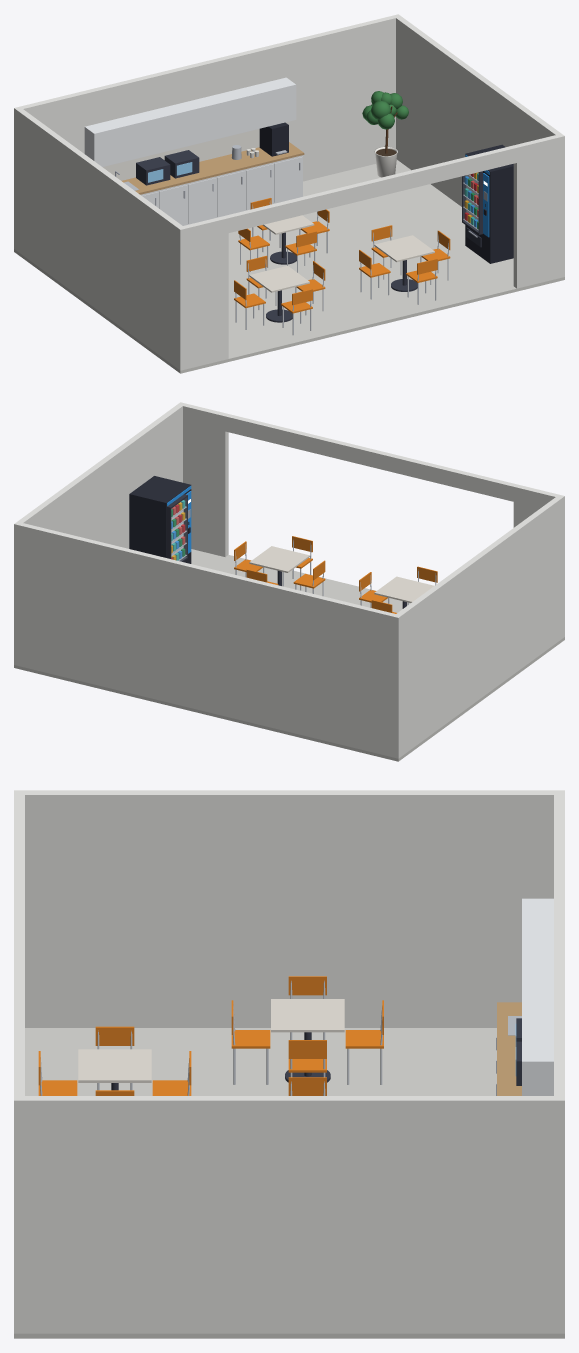
3 views of the same model, one above another, from view 1: azimuth 30°, elevation 25°; view 2: azimuth 150°, elevation 25°; view 3: azimuth 270°, elevation 25° (orthographic). The views are drawn at different scales.
Parts seen in each view (by area): view 1: office_wall, office_tile, white, brand_shoes, plastic_dark, dark_steel, ceramic_white, laminate, oak, chrome, leaf, glass_clear (+1 smaller); view 2: office_wall, office_tile, plastic_dark, brand_shoes, laminate, glass_clear, dark_steel, chrome; view 3: office_wall, office_tile, brand_shoes, white, laminate, oak, chrome, dark_steel.
Part boxes in pixels (x1,y1,x2,y2): office_wall: [14, 14, 564, 370]; office_tile: [14, 159, 564, 373]; white: [84, 77, 478, 225]; brand_shoes: [234, 198, 450, 313]; plastic_dark: [259, 122, 513, 263]; dark_steel: [136, 150, 482, 322]; ceramic_white: [102, 122, 397, 180]; laminate: [249, 215, 434, 292]; oak: [122, 142, 304, 194]; chrome: [235, 200, 448, 335]; leaf: [362, 91, 408, 129]; glass_clear: [463, 173, 477, 231]; office_wall: [14, 402, 564, 758]; office_tile: [14, 549, 564, 761]; plastic_dark: [129, 476, 191, 563]; brand_shoes: [234, 536, 437, 613]; laminate: [249, 546, 434, 602]; glass_clear: [172, 498, 186, 560]; dark_steel: [167, 494, 406, 608]; chrome: [235, 539, 436, 607]; office_wall: [14, 790, 564, 1333]; office_tile: [14, 1028, 564, 1338]; brand_shoes: [38, 976, 383, 1095]; white: [522, 898, 553, 1095]; laminate: [78, 999, 344, 1082]; oak: [497, 1002, 521, 1095]; chrome: [40, 980, 382, 1095]; dark_steel: [111, 1018, 521, 1090].
Bounding box in the file's own units: 8 × 2.86 × 6.
